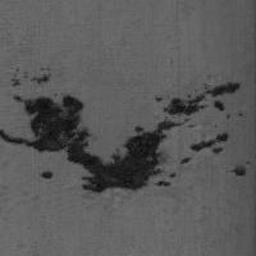Inclusion: (0, 82, 242, 193), (189, 132, 229, 154), (12, 65, 51, 87), (230, 161, 251, 178), (225, 110, 244, 120), (179, 156, 192, 166), (40, 172, 52, 180), (155, 96, 163, 104)
